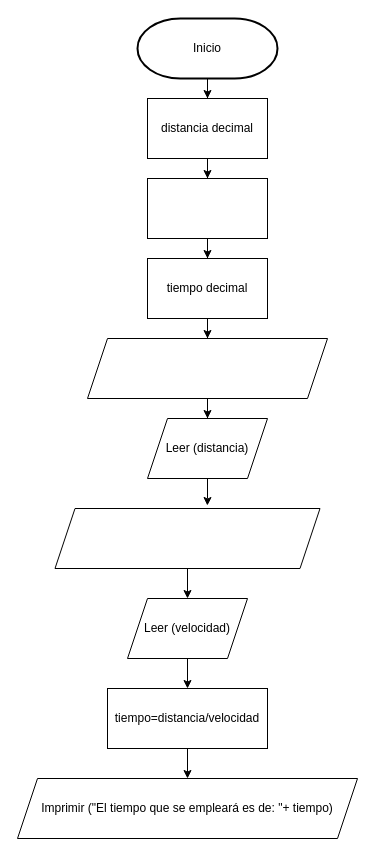
Image size: 375x856. Some labels were removed from this diagram. Here are the shapes that lost their labels. From the top down, the centre of each, then its label:
point (207, 208): velocidad decimal
point (207, 368): Imprimir ("Dime la distancia")
point (187, 538): Imprimir ("Dime la Velocidad media")
